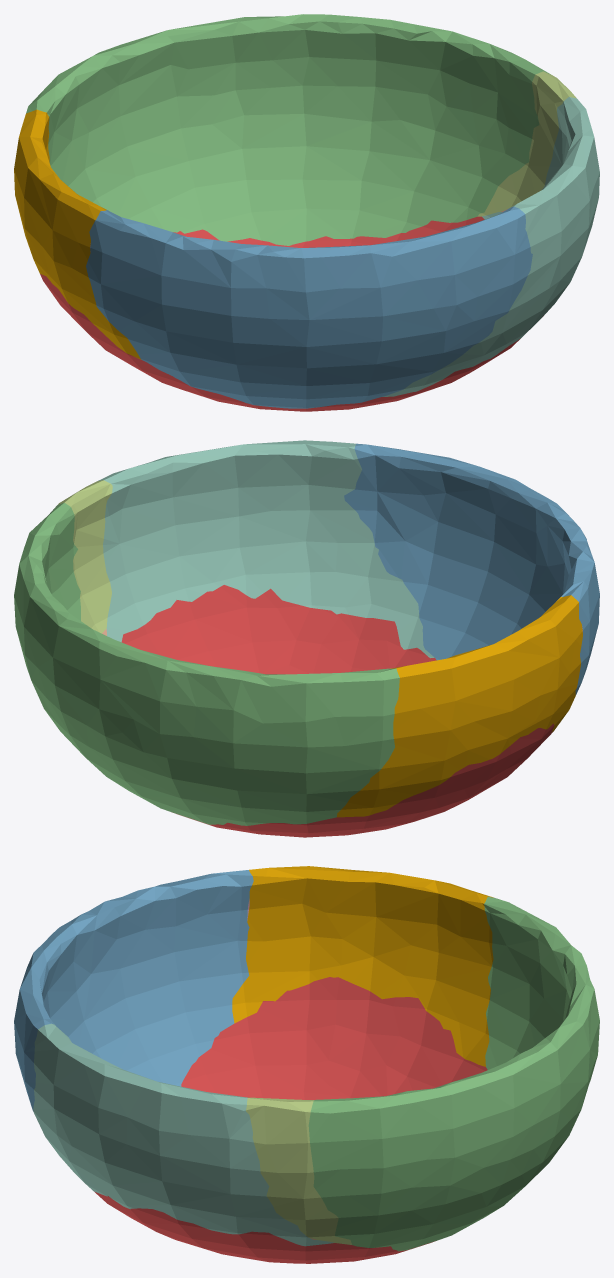
Rendered from mode_5_8pcs.glb.
3 views of the same model, one above another, from view 1: azimuth 30°, elevation 25°; view 2: azimuth 150°, elevation 25°; view 3: azimuth 270°, elevation 25° (orthographic).
Parts seen in each view (by area): view 1: piece_3.obj, piece_2.obj, piece_4.obj, piece_0.obj, piece_1.obj, piece_5.obj; view 2: piece_3.obj, piece_4.obj, piece_2.obj, piece_1.obj, piece_0.obj, piece_5.obj; view 3: piece_3.obj, piece_2.obj, piece_0.obj, piece_4.obj, piece_1.obj, piece_5.obj.
Boxes of the visible parts, x1,y1,x2,y2 form: piece_3.obj: (26,14,550,245); piece_2.obj: (86,206,532,408); piece_4.obj: (382,96,599,396); piece_0.obj: (14,109,141,359); piece_1.obj: (40,216,543,411); piece_5.obj: (477,71,576,216); piece_3.obj: (14,502,399,825); piece_4.obj: (97,440,434,658); piece_2.obj: (344,443,599,695); piece_1.obj: (121,585,554,837); piece_0.obj: (337,595,582,817); piece_5.obj: (58,480,112,633); piece_3.obj: (308,896,599,1251); piece_2.obj: (14,870,253,1111); piece_0.obj: (232,866,493,1066); piece_4.obj: (33,1023,333,1246); piece_1.obj: (94,977,487,1263); piece_5.obj: (246,1097,351,1244).
Bounding box in the file's own units: 0.9998 × 0.4374 × 1.
